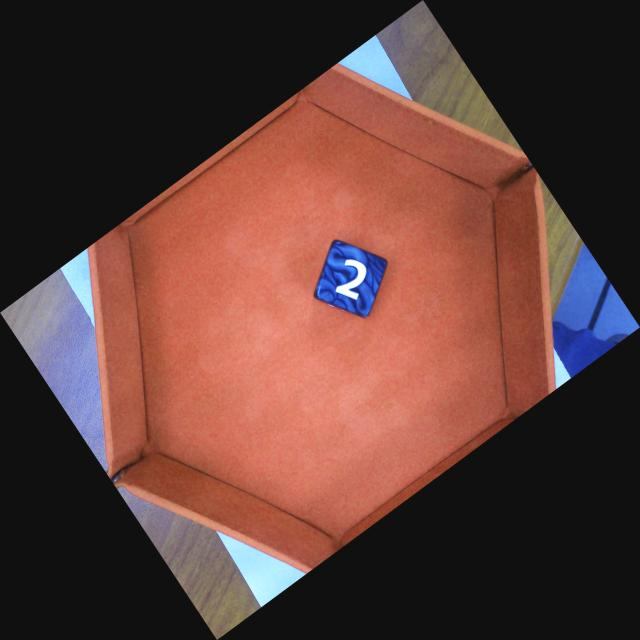dice: (315, 244, 386, 315)
